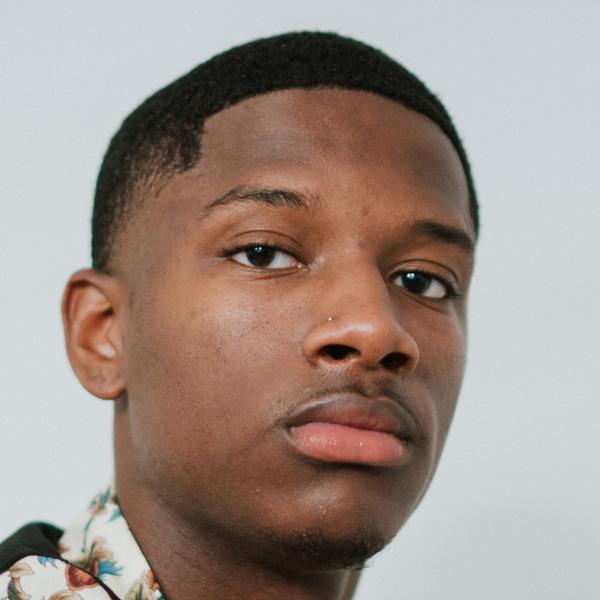Eyes: (209, 220, 314, 288), (376, 247, 465, 314)
